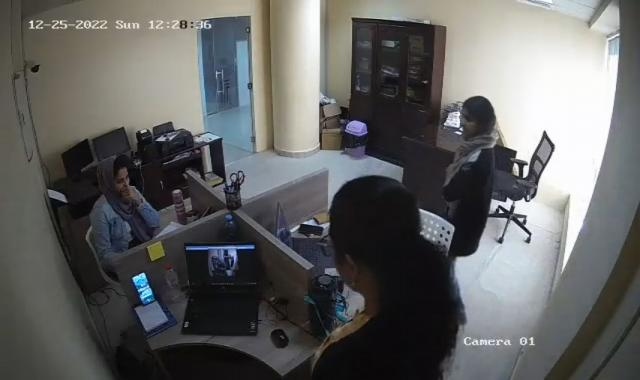no_hairnet: (325, 176, 435, 305), (457, 96, 498, 139), (97, 155, 130, 187)
